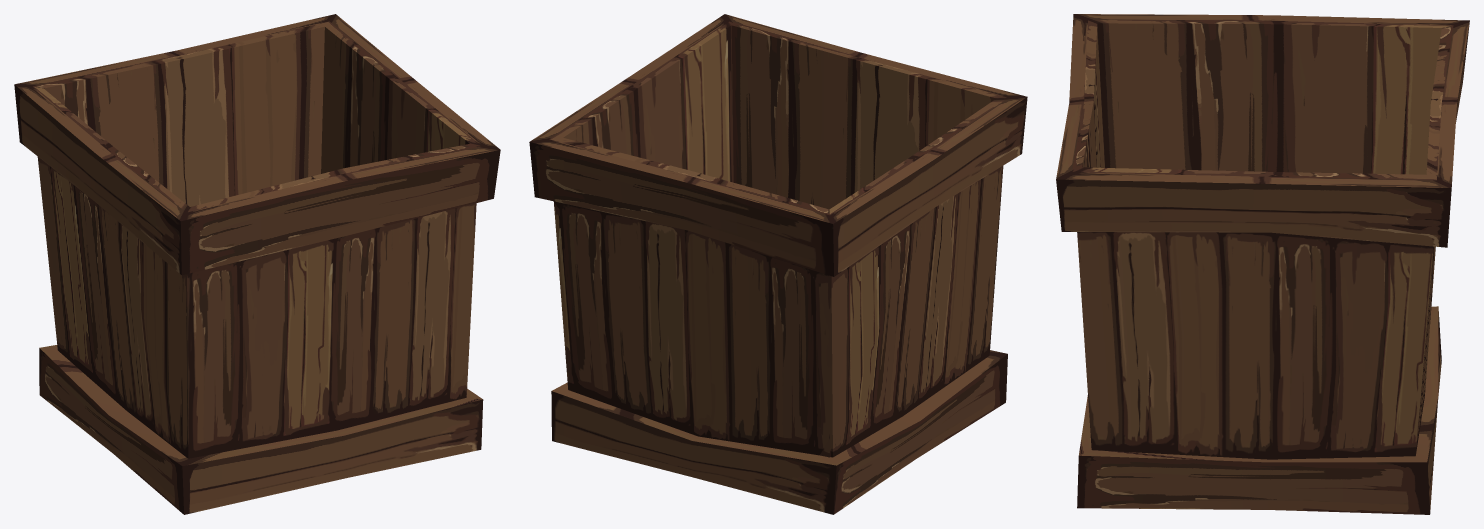
File: SM_PROP_box_dungeon_01.fbx
3 views of the same model, side by side, from view 1: azimuth 30°, elevation 25°; view 2: azimuth 150°, elevation 25°; view 3: azimuth 270°, elevation 25° (orthographic). The views are drawn at different scales.
Parts seen in each view (by area): view 1: SM_PROP_box_dungeon_01; view 2: SM_PROP_box_dungeon_01; view 3: SM_PROP_box_dungeon_01.
Boxes of the visible parts, x1=… form: SM_PROP_box_dungeon_01: x1=14, y1=14, x2=500, y2=514; SM_PROP_box_dungeon_01: x1=529, y1=14, x2=1027, y2=514; SM_PROP_box_dungeon_01: x1=1056, y1=14, x2=1469, y2=514.
Bounding box in the file's own units: 94.59 × 84.86 × 94.41.
